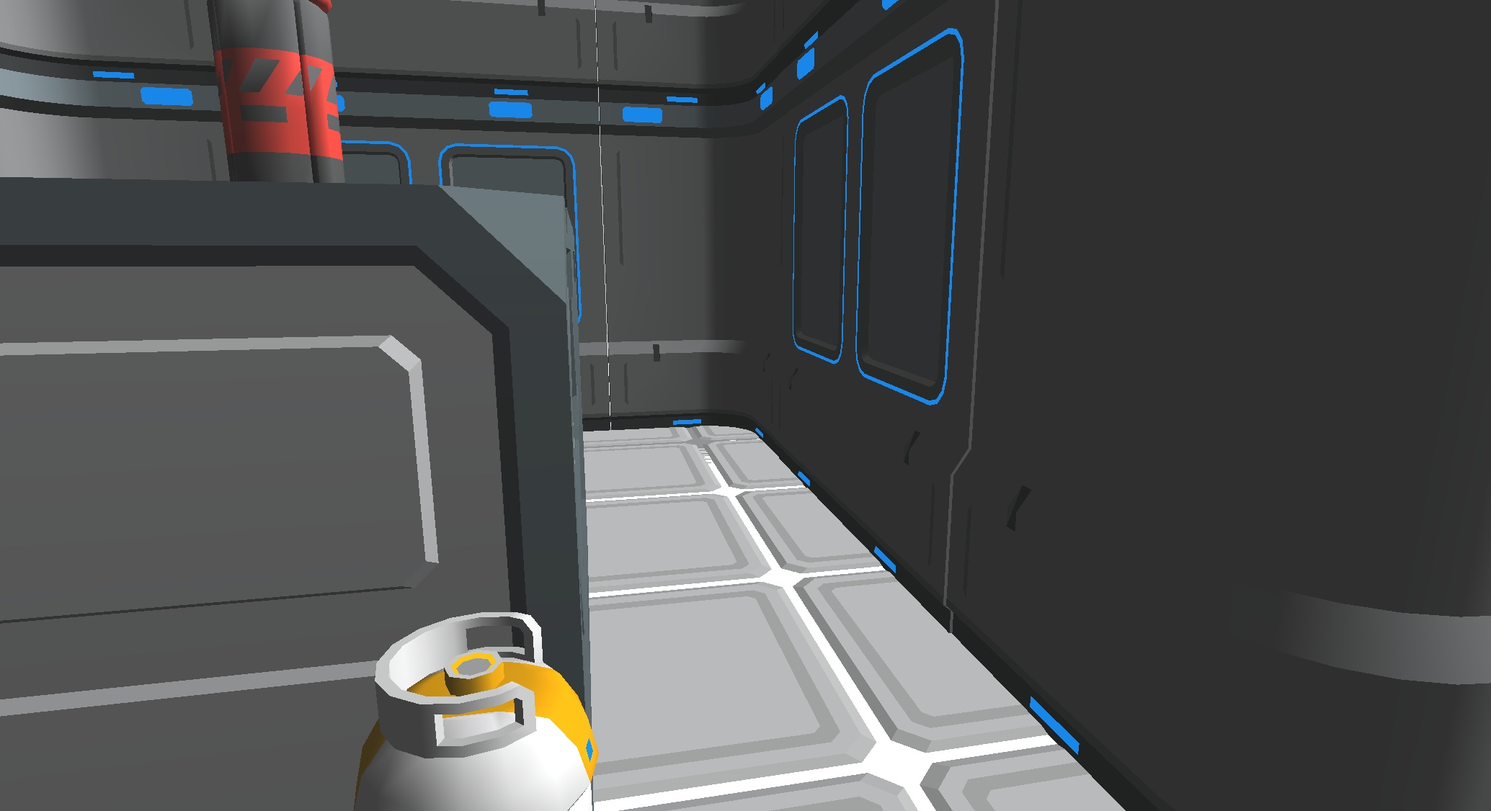red_barrel: (209, 0, 344, 182)
yellow_barrel: (355, 613, 597, 810)
